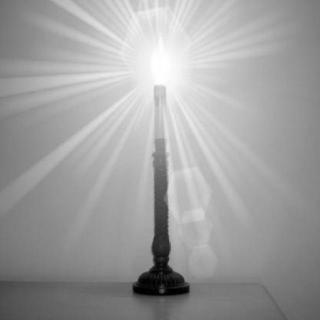other: (133, 36, 181, 84)
